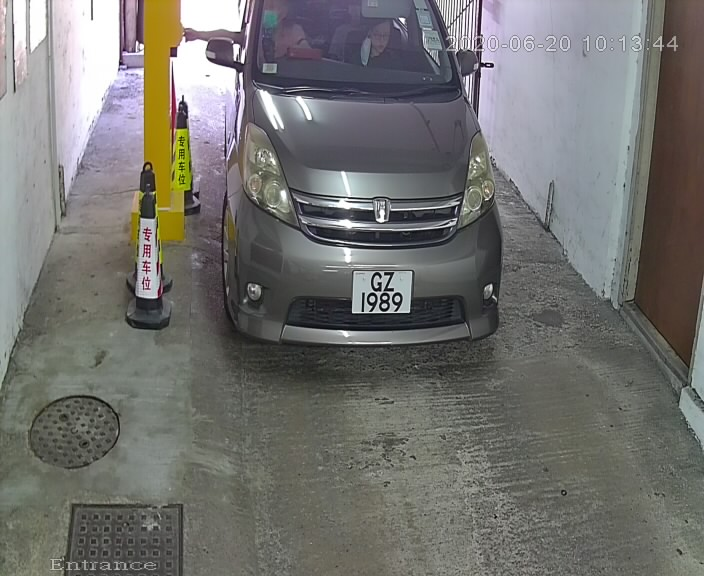privatecar: (208, 3, 540, 395)
